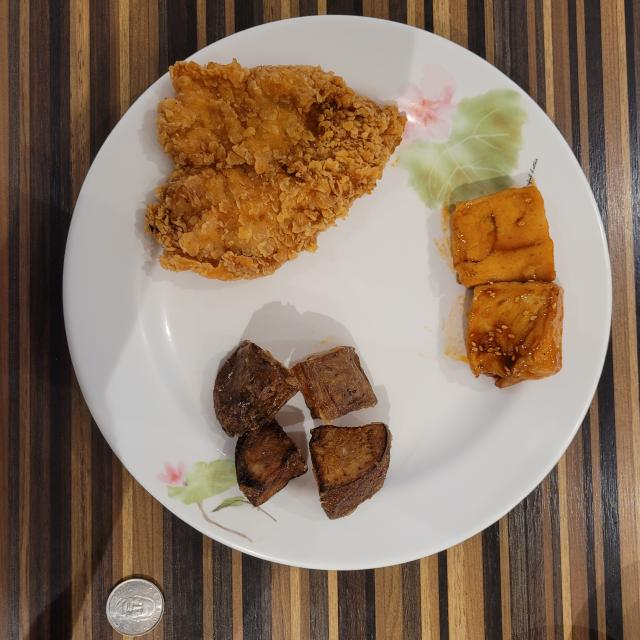coin: (106, 579, 164, 636)
creamy tofu: (452, 185, 564, 388)
fried chicken cutlet: (145, 60, 405, 280)
fried potato: (214, 340, 391, 519)
